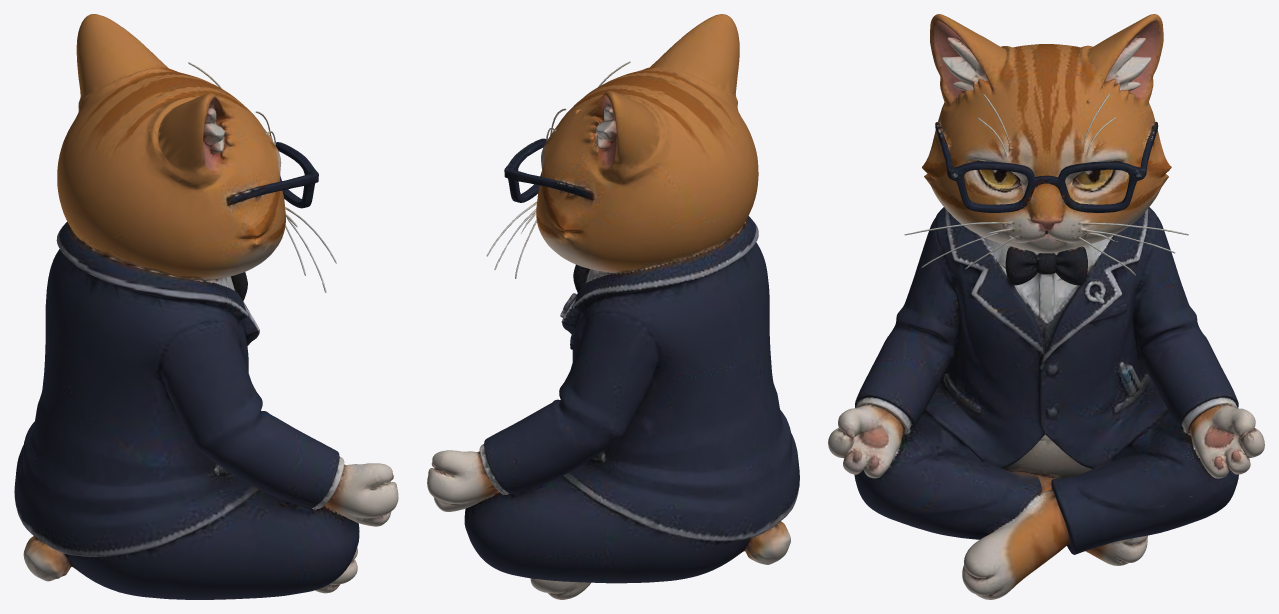
File: professional.glb
3 views of the same model, side by side, from view 1: azimuth 30°, elevation 25°; view 2: azimuth 150°, elevation 25°; view 3: azimuth 270°, elevation 25° (orthographic). The views are drawn at different scales.
Visible parts, largest first — view 1: tripo_node_5c6b5842-6dc0-4977-bf15-6f5e661bfdf6; view 2: tripo_node_5c6b5842-6dc0-4977-bf15-6f5e661bfdf6; view 3: tripo_node_5c6b5842-6dc0-4977-bf15-6f5e661bfdf6.
Boxes of the visible parts, bbox=[...] form: tripo_node_5c6b5842-6dc0-4977-bf15-6f5e661bfdf6: bbox=[14, 14, 398, 599]; tripo_node_5c6b5842-6dc0-4977-bf15-6f5e661bfdf6: bbox=[427, 14, 799, 599]; tripo_node_5c6b5842-6dc0-4977-bf15-6f5e661bfdf6: bbox=[828, 14, 1264, 599].
Size of the model in its own units: 0.5651 by 0.9998 by 0.7662.
1 material, 1 textured.
